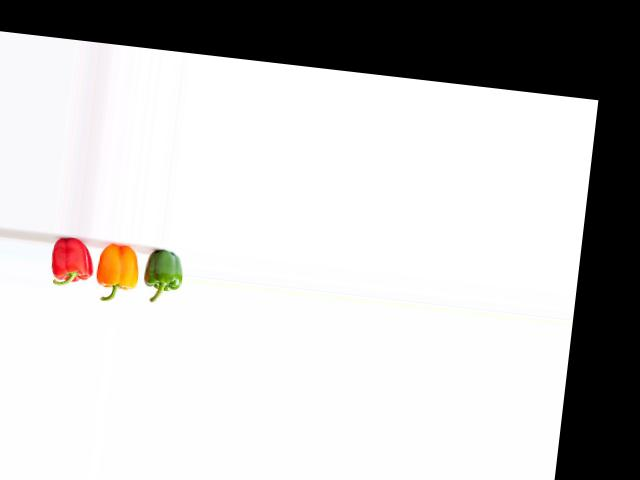bell_pepper: (44, 236, 96, 299)
